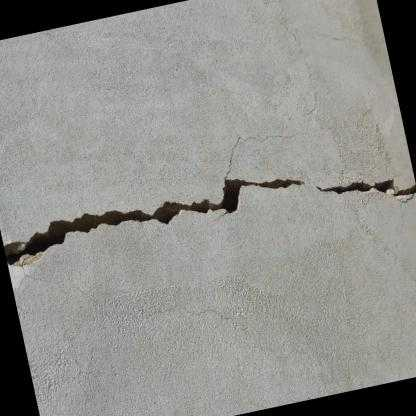crack: (3, 177, 304, 266), (316, 179, 416, 196)
